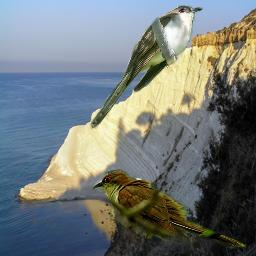Cuckoo: (89, 4, 203, 132), (92, 169, 246, 249)
